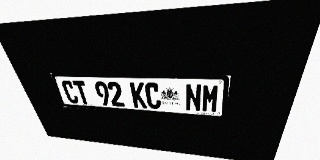2: (106, 81, 125, 107)
9: (93, 81, 112, 106)
C: (60, 80, 80, 104), (144, 82, 161, 109)
K: (129, 82, 147, 108)
M: (201, 84, 220, 113)
N: (185, 84, 202, 112)
T: (72, 81, 91, 105)
